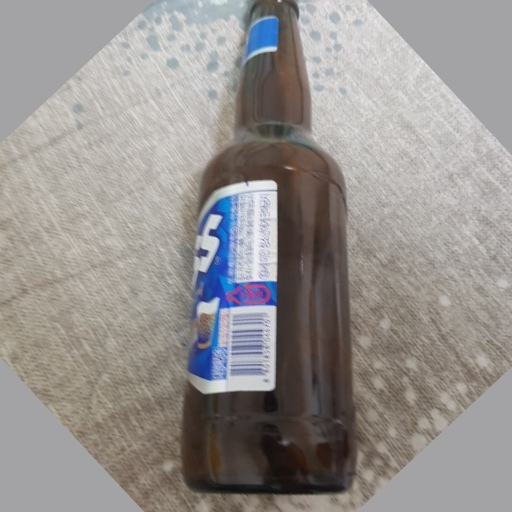Glass_1: (183, 1, 360, 496)
